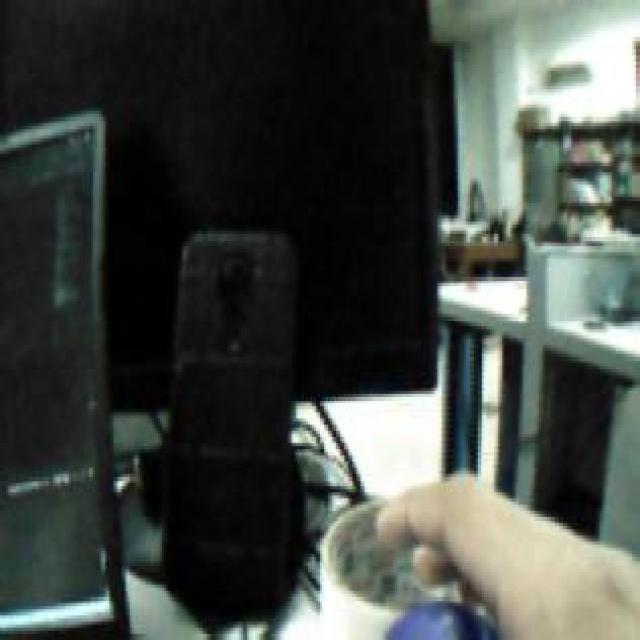BallPurple: (375, 597, 496, 640)
